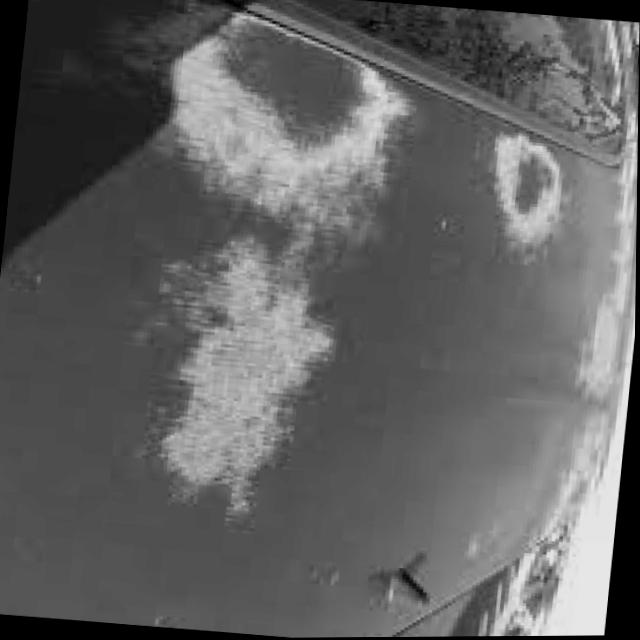Paint-fading: (161, 17, 404, 219), (154, 241, 332, 510), (498, 136, 559, 250)
